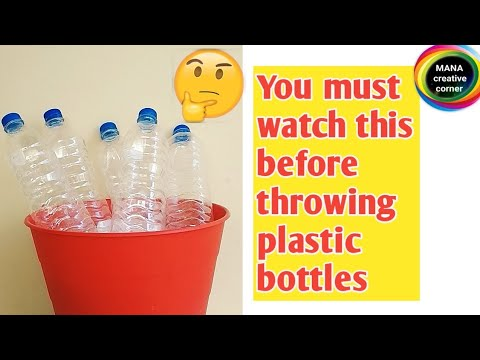plastic_bottle: (1, 83, 130, 288), (149, 70, 242, 280), (31, 82, 113, 266), (107, 61, 171, 278), (84, 92, 140, 281)
